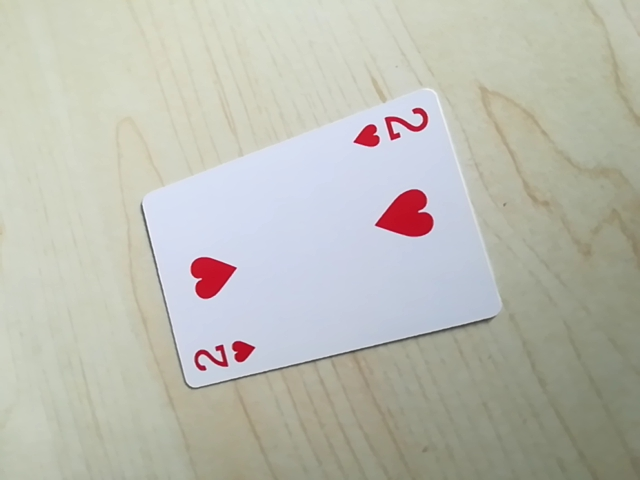hx 2: (348, 100, 438, 156), (188, 336, 260, 383)
